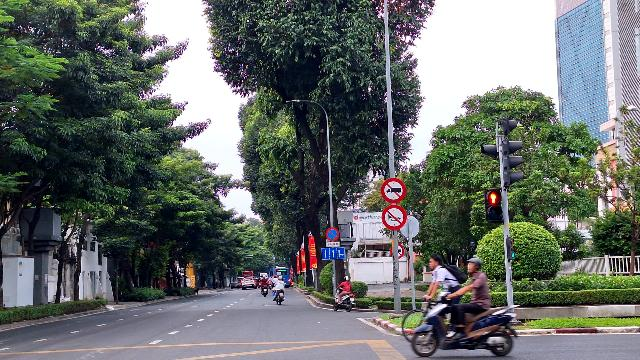cam-bop-coi: (381, 204, 407, 230)
cam-do-xe: (325, 227, 340, 242)
